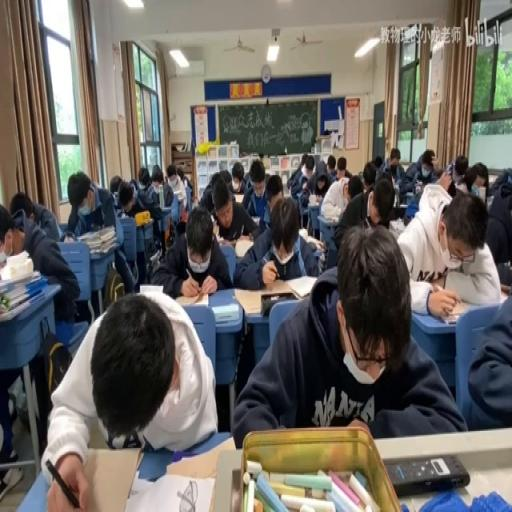calculator: (125, 469, 215, 512), (162, 432, 234, 481), (234, 278, 316, 314), (76, 225, 117, 253), (0, 266, 40, 294), (0, 292, 36, 322), (212, 302, 240, 324), (174, 290, 209, 307), (233, 236, 254, 258), (302, 232, 326, 249), (389, 218, 405, 238), (139, 284, 162, 296), (218, 234, 236, 248), (148, 249, 160, 269), (136, 214, 152, 224), (155, 202, 171, 212), (406, 192, 418, 205), (499, 283, 510, 296), (298, 226, 308, 240), (323, 215, 340, 223), (307, 196, 320, 206), (232, 193, 245, 202), (212, 219, 218, 236), (250, 214, 260, 224), (112, 189, 118, 205), (398, 203, 408, 212)
paper: (232, 226, 458, 444), (44, 286, 218, 508), (395, 184, 501, 310), (462, 280, 512, 430), (150, 203, 228, 299), (332, 170, 398, 250), (118, 172, 163, 255), (66, 169, 112, 235), (10, 189, 60, 243), (485, 171, 512, 270), (241, 159, 272, 228), (400, 148, 439, 200), (111, 246, 136, 297), (304, 158, 334, 199), (378, 148, 404, 189), (438, 155, 466, 193), (164, 164, 187, 206), (198, 171, 218, 209), (462, 164, 484, 196), (286, 154, 306, 189), (0, 202, 14, 244), (230, 161, 246, 195), (265, 176, 282, 206), (362, 161, 375, 192), (348, 175, 362, 200), (298, 196, 308, 229), (108, 174, 122, 196), (336, 156, 348, 180), (220, 168, 233, 189), (138, 164, 150, 186), (150, 168, 164, 186), (430, 155, 440, 172), (59, 230, 76, 239), (373, 154, 382, 170), (129, 178, 138, 193), (182, 176, 191, 190)
person: (384, 452, 470, 494)
